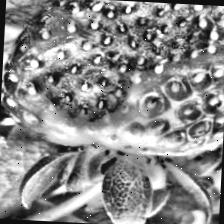Anthracnose Fruit Rot: (10, 0, 224, 136)
